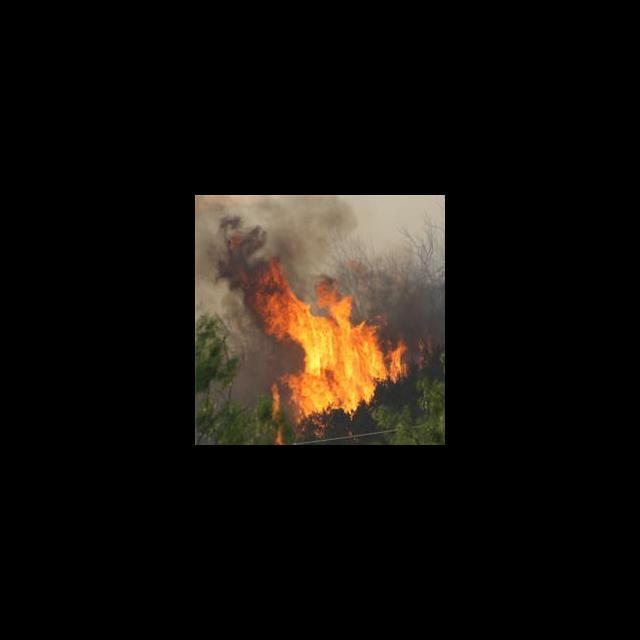Fire: (254, 268, 408, 427)
